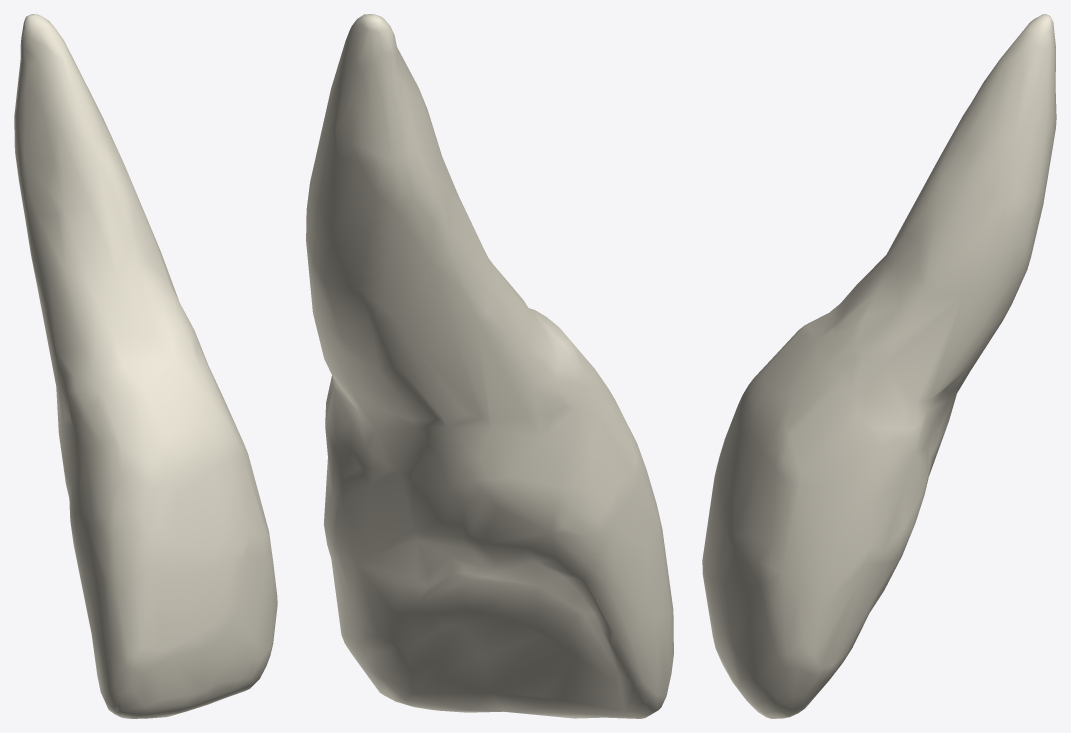
The picture shows the model from 3 angles, left to right: view 1: azimuth 30°, elevation 25°; view 2: azimuth 150°, elevation 25°; view 3: azimuth 270°, elevation 25°; orthographic projection. The views are drawn at different scales.
Parts seen in each view (by area): view 1: ZA_d8fda91a91ab15e9; view 2: ZA_d8fda91a91ab15e9; view 3: ZA_d8fda91a91ab15e9.
Boxes of the visible parts, bbox=[...] form: ZA_d8fda91a91ab15e9: bbox=[14, 14, 277, 718]; ZA_d8fda91a91ab15e9: bbox=[306, 14, 673, 718]; ZA_d8fda91a91ab15e9: bbox=[702, 14, 1056, 718].
Bounding box in the file's own units: 0.00879 × 0.0258 × 0.0126.
